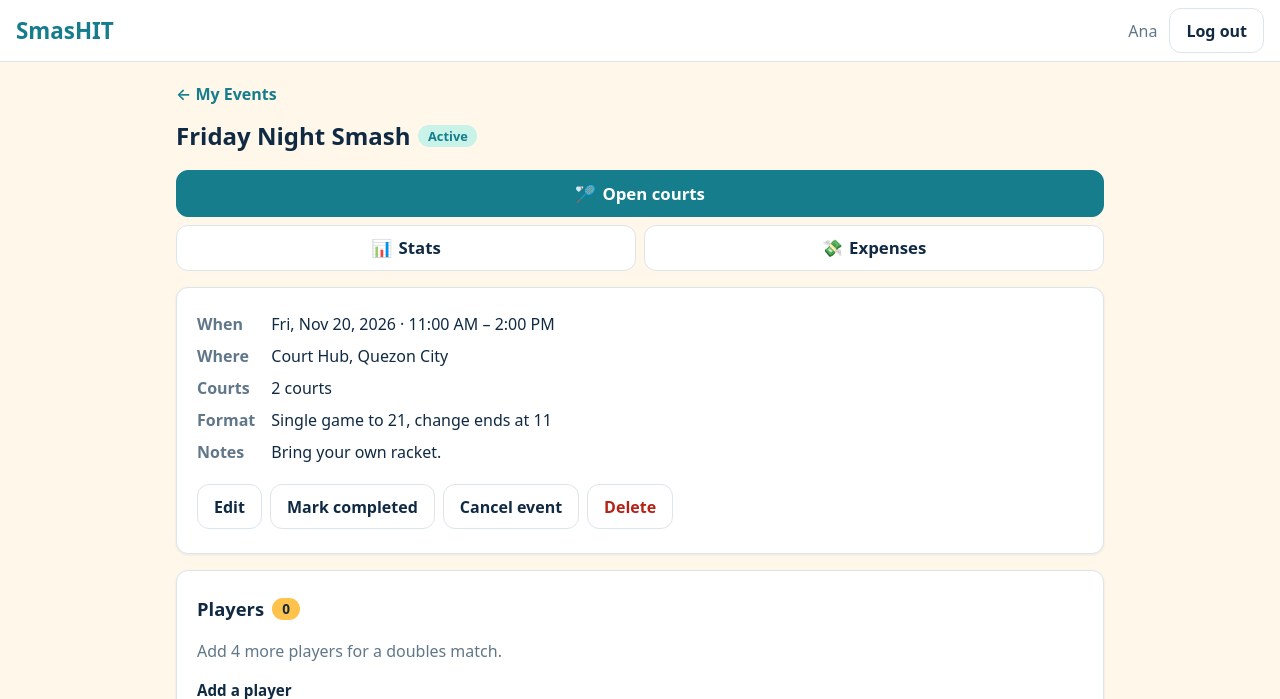
Test: Event page › shows the backend message when an action fails
The image size is (1280, 699).
Click the button "Mark completed": click(352, 506) top-left (270, 484), bottom-right (435, 529)
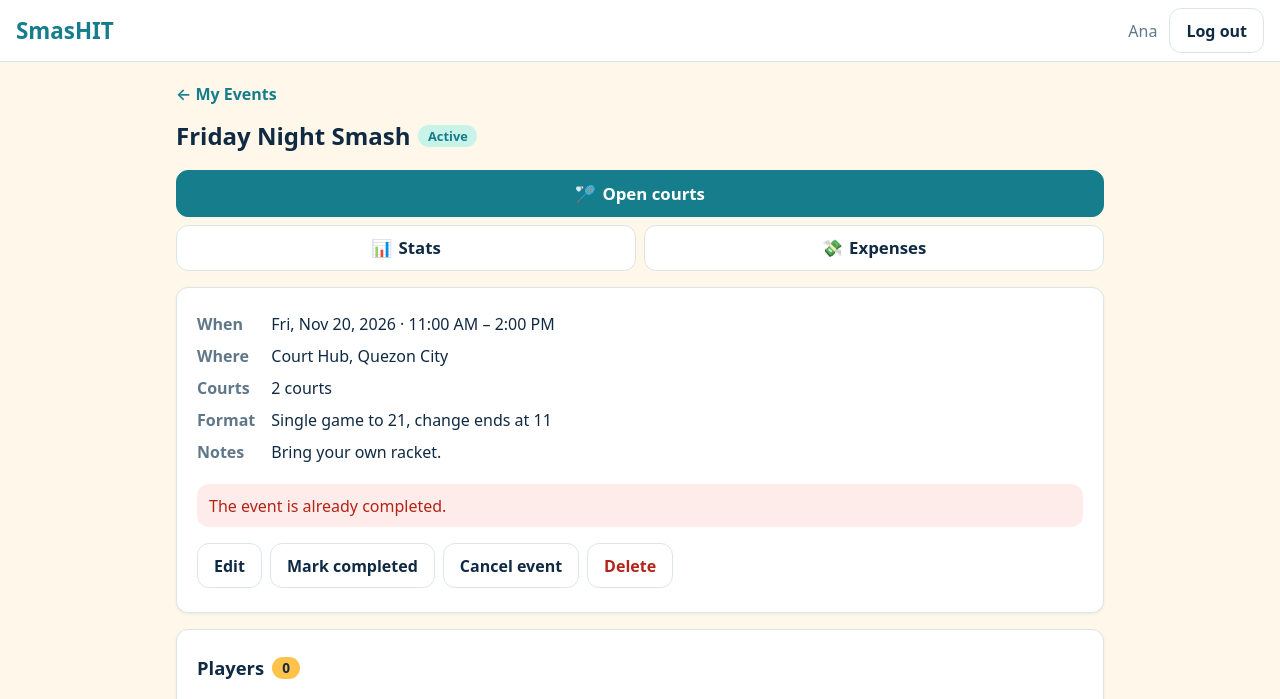
Expected: the button "Mark completed" is enabled, top-left (270, 543), bottom-right (435, 588)
Now the message reads "The event is already completed.", box top-left (209, 494), bottom-right (446, 516)
